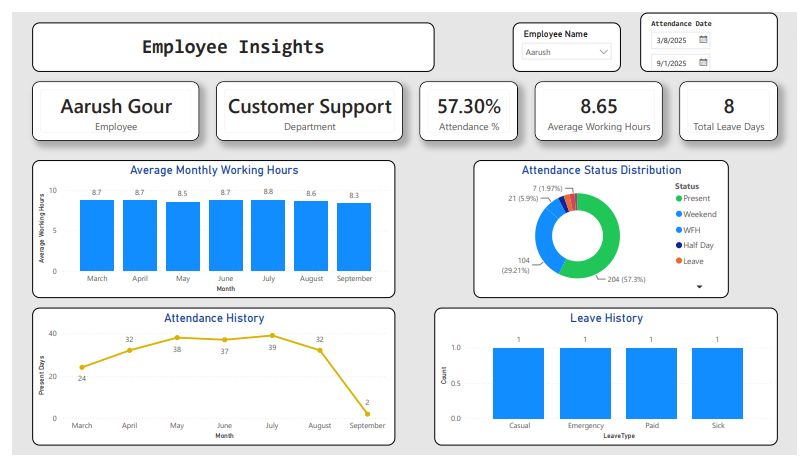

The page's visual inventory and layout, read from the dashboard file:
{"tool":"powerbi","page":{"name":"Employee Insights","canvas":[1280,720],"ordinal":3},"visuals":[{"type":"textbox","box":[32,16,656,80],"z":0},{"type":"slicer","fields":{"Values":["Attendance.AttendanceDate"]},"box":[1024,0,224,96],"z":1000},{"type":"cardVisual","fields":{"Data":["Min(Departments.DepartmentName)"]},"box":[331.9,112,304,96],"z":2000},{"type":"cardVisual","fields":{"Data":["Measures (2).Attendance %"]},"box":[663.8,112,160,96],"z":3000},{"type":"cardVisual","fields":{"Data":["Measures (2).Average Working Hours"]},"box":[851.7,112,208,96],"z":4000},{"type":"cardVisual","fields":{"Data":["Measures (2).Leave Days"]},"box":[1087.6,112,160,96],"z":5000},{"type":"clusteredColumnChart","title":"Average Monthly Working Hours","fields":{"Category":["Attendance.AttendanceDate.Variation.Date Hierarchy.Month"],"Y":["Measures (2).Average Working Hours"]},"box":[32,240,592,224],"z":6000},{"type":"donutChart","title":"Attendance Status Distribution","fields":{"Category":["Attendance.Status"],"Y":["CountNonNull(Attendance.AttendanceID)"]},"box":[752,240,416,224],"z":7000},{"type":"lineChart","title":"Attendance History","fields":{"Category":["Attendance.AttendanceDate.Variation.Date Hierarchy.Month"],"Y":["Measures (2).Present Days"]},"box":[32,480,592,224],"z":8000},{"type":"slicer","fields":{"Values":["Employees.FirstName","Employees.LastName"]},"box":[816,16,176,80],"z":9000},{"type":"cardVisual","fields":{"Data":["Min(Employees.Full Name)"]},"box":[32,112,272,96],"z":10000},{"type":"clusteredColumnChart","title":"Leave History","fields":{"Category":["LeaveRequests.LeaveType"],"Y":["CountNonNull(LeaveRequests.LeaveID)"]},"box":[688,480,560,224],"z":11000}]}

Visuals, with their boxes in screenshot pixels (x1, y1, x2, y2), scaled from the page's 1280x720 canvas onto the 807x462 screenshot:
textbox: [x1=20, y1=10, x2=434, y2=62]
slicer - Attendance.AttendanceDate: [x1=646, y1=0, x2=787, y2=62]
cardVisual - Min(Departments.DepartmentName): [x1=209, y1=72, x2=401, y2=133]
cardVisual - Measures (2).Attendance %: [x1=419, y1=72, x2=519, y2=133]
cardVisual - Measures (2).Average Working Hours: [x1=537, y1=72, x2=668, y2=133]
cardVisual - Measures (2).Leave Days: [x1=686, y1=72, x2=787, y2=133]
"Average Monthly Working Hours" clusteredColumnChart: [x1=20, y1=154, x2=393, y2=298]
"Attendance Status Distribution" donutChart: [x1=474, y1=154, x2=736, y2=298]
"Attendance History" lineChart: [x1=20, y1=308, x2=393, y2=452]
slicer - Employees.FirstName x Employees.LastName: [x1=514, y1=10, x2=625, y2=62]
cardVisual - Min(Employees.Full Name): [x1=20, y1=72, x2=192, y2=133]
"Leave History" clusteredColumnChart: [x1=434, y1=308, x2=787, y2=452]
